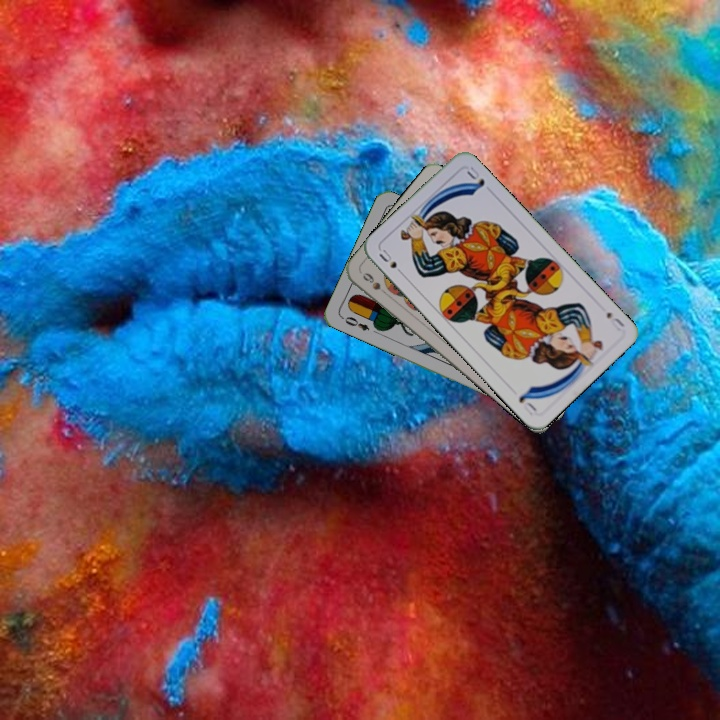EO: (338, 312, 372, 333)
S9: (358, 268, 392, 299)
SU: (375, 245, 407, 279), (602, 308, 627, 334)
